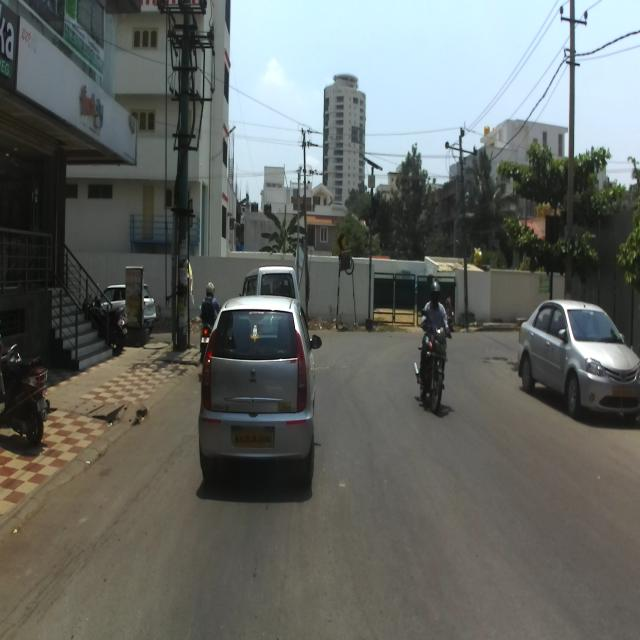car ahead at: (205, 301, 313, 470), (511, 293, 640, 419)
electric pole ahead at: (163, 0, 209, 358)
motorcycle ahead at: (0, 337, 48, 457), (416, 315, 453, 419)
